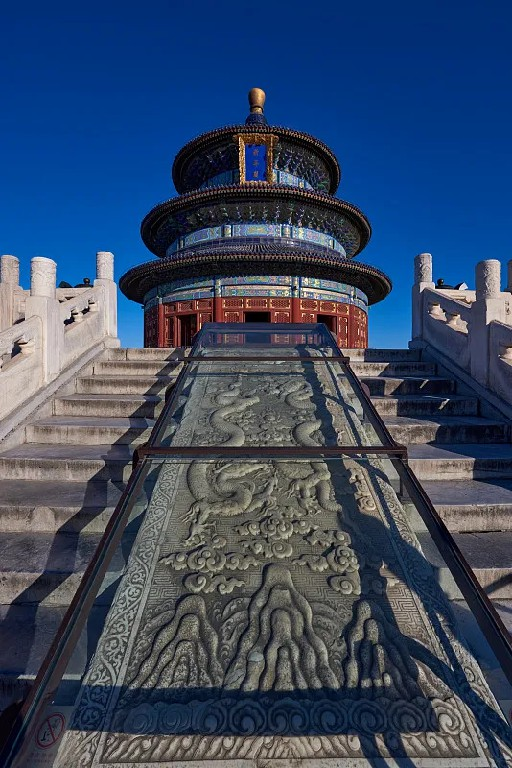Heaven: (118, 85, 394, 349)
